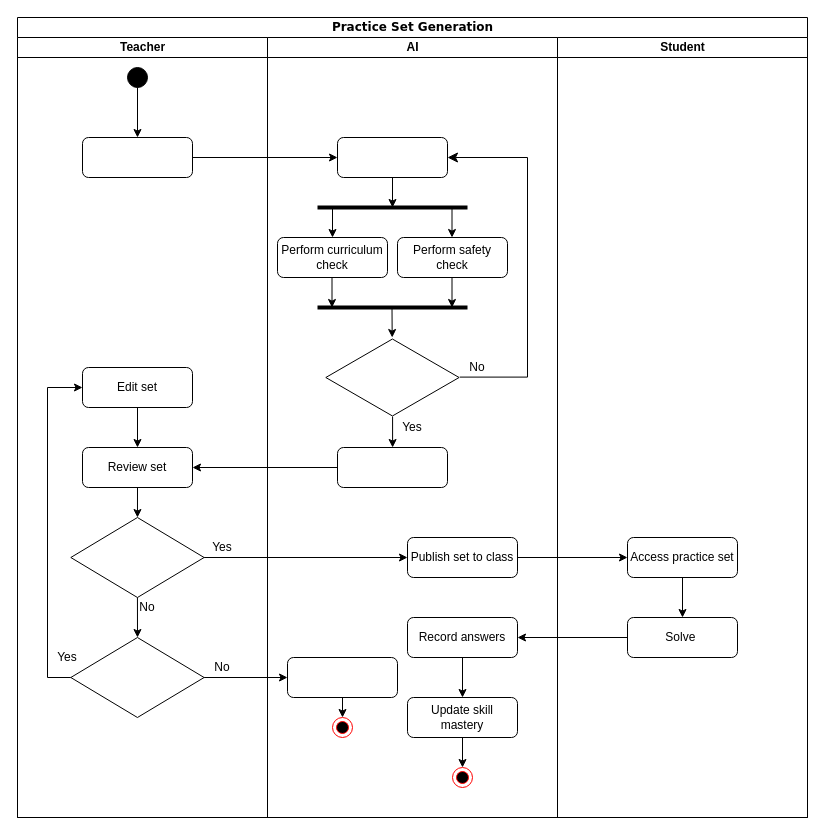
Some shapes in this 825 by 835 pixel diagram are drawn without their labels. The box of each missing label's shape, as (x1, y1, x2, y2) in pixels:
Approve set?: (70, 516, 204, 598)
Edit needed?: (70, 636, 204, 718)
Generate a practice set: (336, 136, 448, 178)
Notify and present set to teacher: (336, 446, 448, 488)
Passed checks?: (325, 336, 459, 418)
Record total rejection: (286, 656, 398, 698)
Request a practice set: (82, 136, 192, 178)
